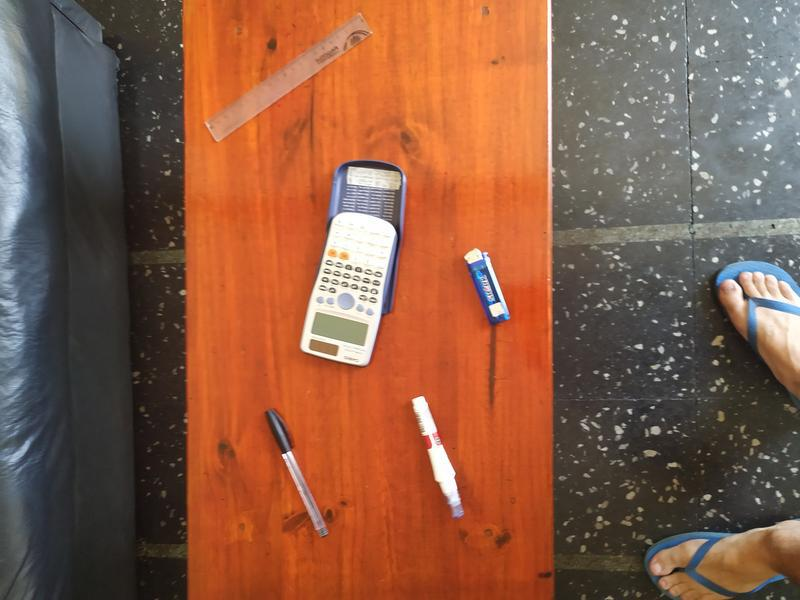calculadora: (298, 206, 403, 377)
corrector: (400, 388, 472, 526)
encendedor: (450, 240, 515, 332)
lapicera: (259, 400, 335, 544)
regla: (205, 10, 373, 141)
